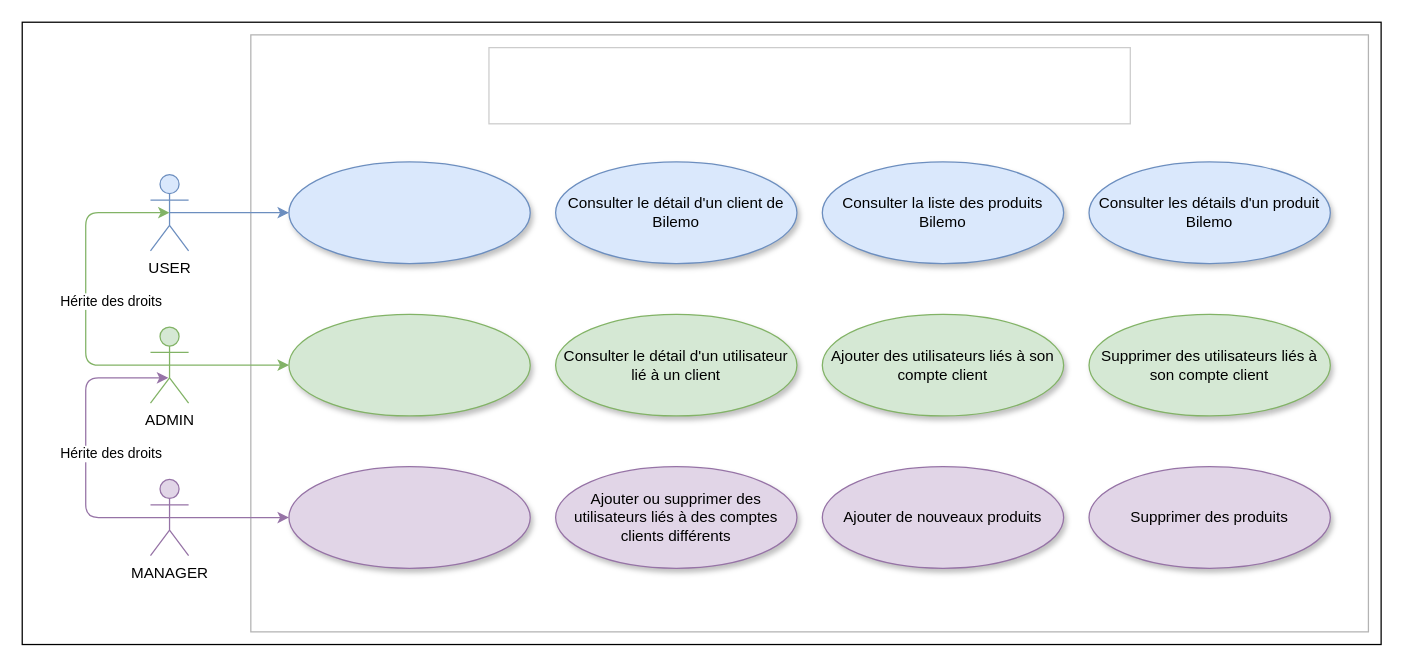
Some shapes in this 1403 by 667 pixel diagram are drawn without their labels. Each missing label, with the centre of its shape:
Ajouter ou supprimer des utilisateurs avec des rôles différents: [410,518]
Consulter la liste des clients de Bilemo: [410,214]
Consulter la liste des utilisateurs de l'API: [410,366]
Opérations autorisées en fonction de rôles prédéfinis: [809,85]
